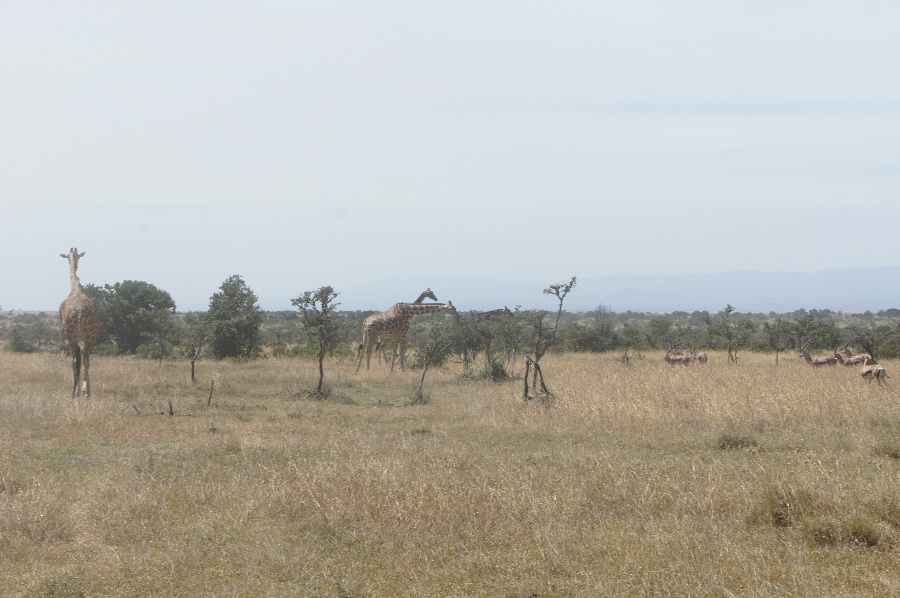giraffe: (47, 240, 111, 405), (355, 286, 463, 375)
